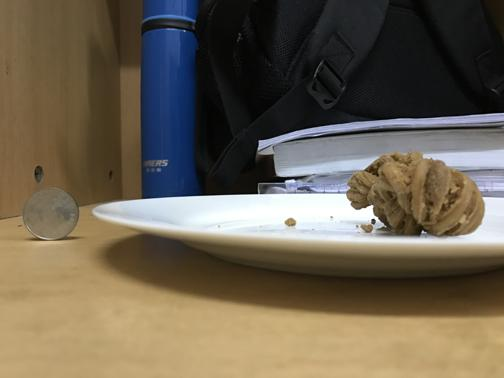coin: (22, 188, 78, 239)
fired_dough_twist: (346, 151, 484, 235)
